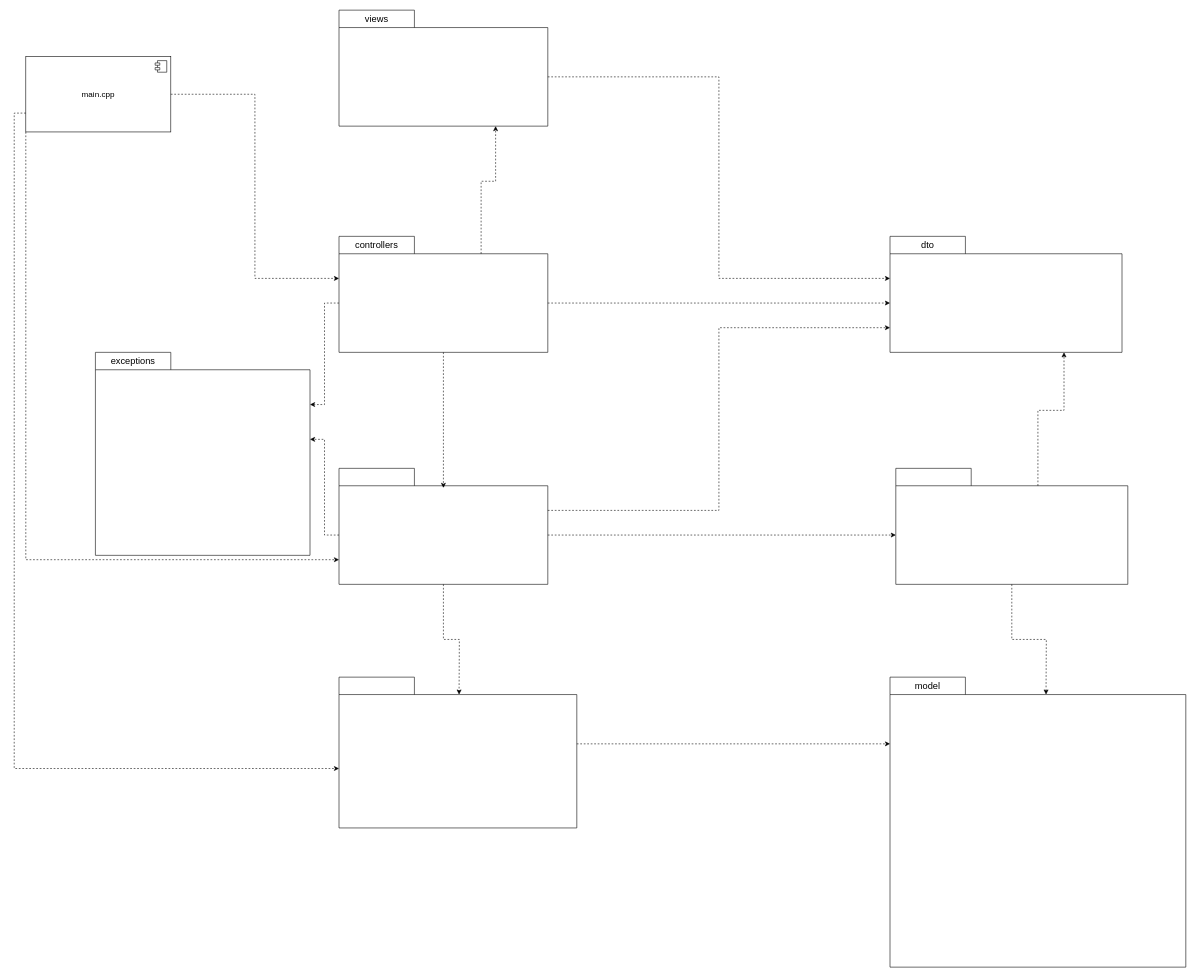
Some shapes in this 1196 by 977 pixel diagram are drawn without their labels. Each missing label, with the box of its shape:
mappers: (895, 468, 1128, 584)
repo: (338, 677, 577, 828)
services: (338, 468, 548, 584)
